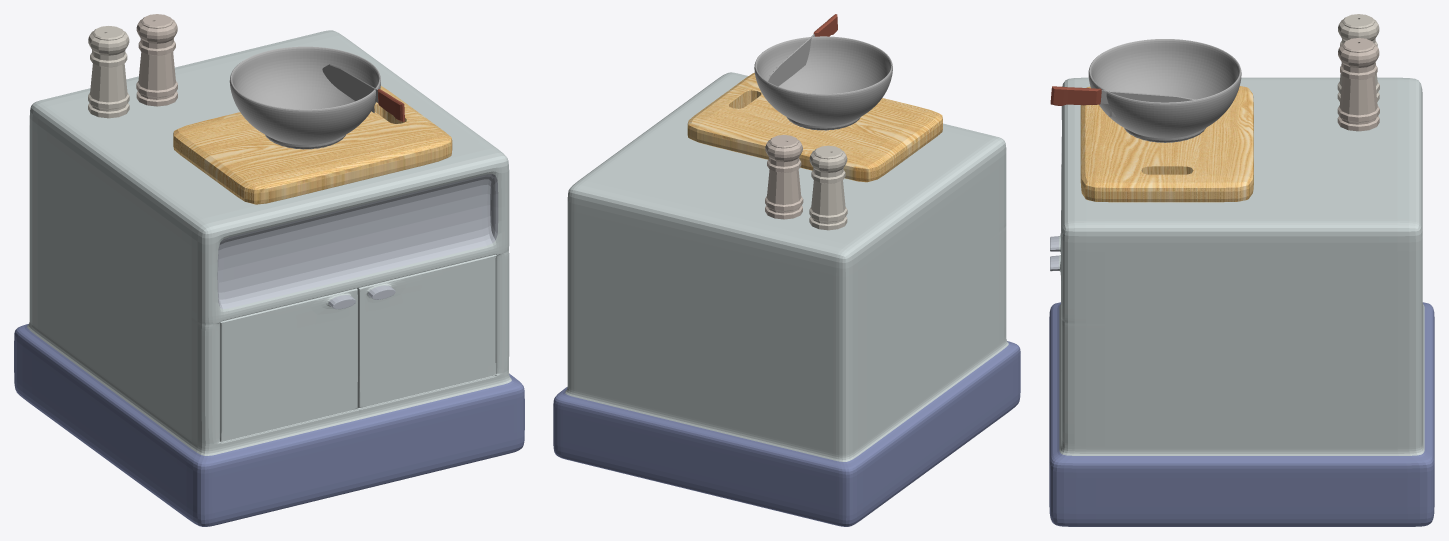
The model's file is Bowl_and_Knife.fbx.
The picture shows the model from 3 angles, left to right: view 1: azimuth 30°, elevation 25°; view 2: azimuth 150°, elevation 25°; view 3: azimuth 270°, elevation 25°; orthographic projection. The views are drawn at different scales.
Visible parts, largest first — view 1: 큐브.001, 평면.004, 구체.002, 원형.002, 원형.001, 평면.001; view 2: 큐브.001, 평면.004, 구체.002, 원형.001, 원형.002, 평면.001; view 3: 큐브.001, 평면.004, 구체.002, 원형.002, 평면.001, 원형.001.
Boxes of the visible parts, <box> form: 큐브.001: <box>14,30,524,526</box>; 평면.004: <box>173,86,452,204</box>; 구체.002: <box>229,46,380,149</box>; 원형.002: <box>136,14,177,106</box>; 원형.001: <box>88,26,129,118</box>; 평면.001: <box>322,64,404,121</box>; 큐브.001: <box>553,72,1020,526</box>; 평면.004: <box>687,73,942,182</box>; 구체.002: <box>754,36,892,130</box>; 원형.001: <box>809,145,847,230</box>; 원형.002: <box>765,135,803,219</box>; 평면.001: <box>767,14,837,86</box>; 큐브.001: <box>1049,77,1434,526</box>; 평면.004: <box>1080,86,1253,202</box>; 구체.002: <box>1088,39,1241,142</box>; 원형.002: <box>1337,38,1379,131</box>; 평면.001: <box>1050,86,1195,116</box>; 원형.001: <box>1337,14,1379,101</box>.
Bounding box in the file's own units: 315 × 344 × 315.
